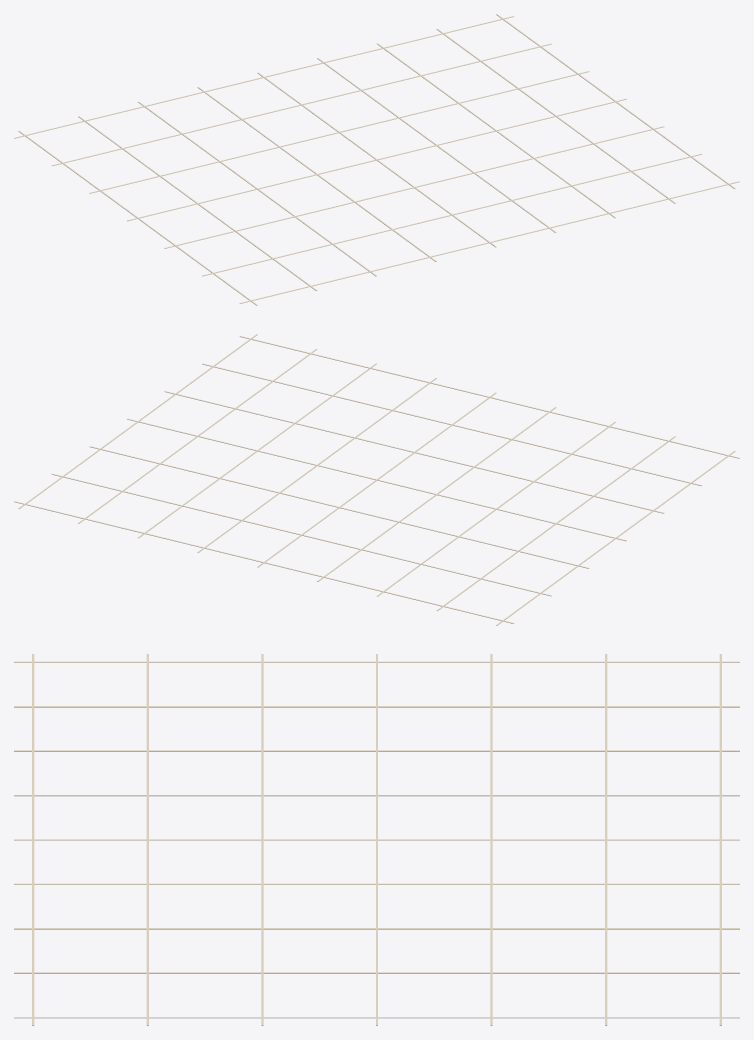
3 renders of one model, top to bottom at view 1: azimuth 30°, elevation 25°; view 2: azimuth 150°, elevation 25°; view 3: azimuth 270°, elevation 25°, orthographic. The views are drawn at different scales.
Parts seen in each view (by area): view 1: Grout Y.004, Grout Y.006, Grout Y.005, Grout Y.003, Grout Y.002, Grout Y, Grout Y.001, Grout X, Grout X.002, Grout X.003, Grout X.007, Grout X.006 (+4 smaller); view 2: Grout Y.004, Grout Y.005, Grout Y.006, Grout Y.003, Grout Y, Grout Y.002, Grout Y.001, Grout X.002, Grout X.004, Grout X.007, Grout X.001, Grout X.003 (+4 smaller); view 3: Grout X, Grout X.002, Grout X.004, Grout X.007, Grout X.005, Grout X.001, Grout X.006, Grout X.008, Grout X.003, Grout Y.004, Grout Y.005, Grout Y.006 (+4 smaller).
Boxes of the visible parts, x1,y1,x2,y2 form: Grout Y.004: (89, 71, 589, 193); Grout Y.006: (14, 16, 514, 138); Grout Y.005: (51, 43, 551, 166); Grout Y.003: (127, 98, 626, 221); Grout Y.002: (164, 126, 664, 248); Grout Y: (239, 181, 739, 303); Grout Y.001: (202, 153, 702, 276); Grout X: (18, 131, 257, 305); Grout X.002: (138, 101, 376, 276); Grout X.003: (197, 87, 436, 261); Grout X.007: (436, 29, 675, 203); Grout X.006: (377, 43, 615, 218); Grout Y.004: (89, 446, 589, 568); Grout Y.005: (51, 473, 551, 596); Grout Y.006: (14, 501, 514, 623); Grout Y.003: (127, 418, 626, 541); Grout Y: (239, 336, 739, 458); Grout Y.002: (164, 391, 664, 513); Grout Y.001: (202, 363, 702, 486); Grout X.002: (377, 421, 615, 596); Grout X.004: (257, 392, 496, 567); Grout X.007: (78, 349, 317, 523); Grout X.001: (436, 436, 675, 610); Grout X.003: (317, 407, 556, 581); Grout X: (14, 661, 739, 662); Grout X.002: (14, 750, 739, 751); Grout X.004: (14, 839, 739, 840); Grout X.007: (14, 972, 739, 973); Grout X.005: (14, 883, 739, 884); Grout X.001: (14, 706, 739, 707); Grout X.006: (14, 928, 739, 929); Grout X.008: (14, 1017, 739, 1018); Grout X.003: (14, 795, 739, 796); Grout Y.004: (490, 654, 492, 1025); Grout Y.005: (605, 654, 607, 1025); Grout Y.006: (719, 654, 721, 1025).
Bounding box in the file's own units: 460 × 0.3001 × 380.
